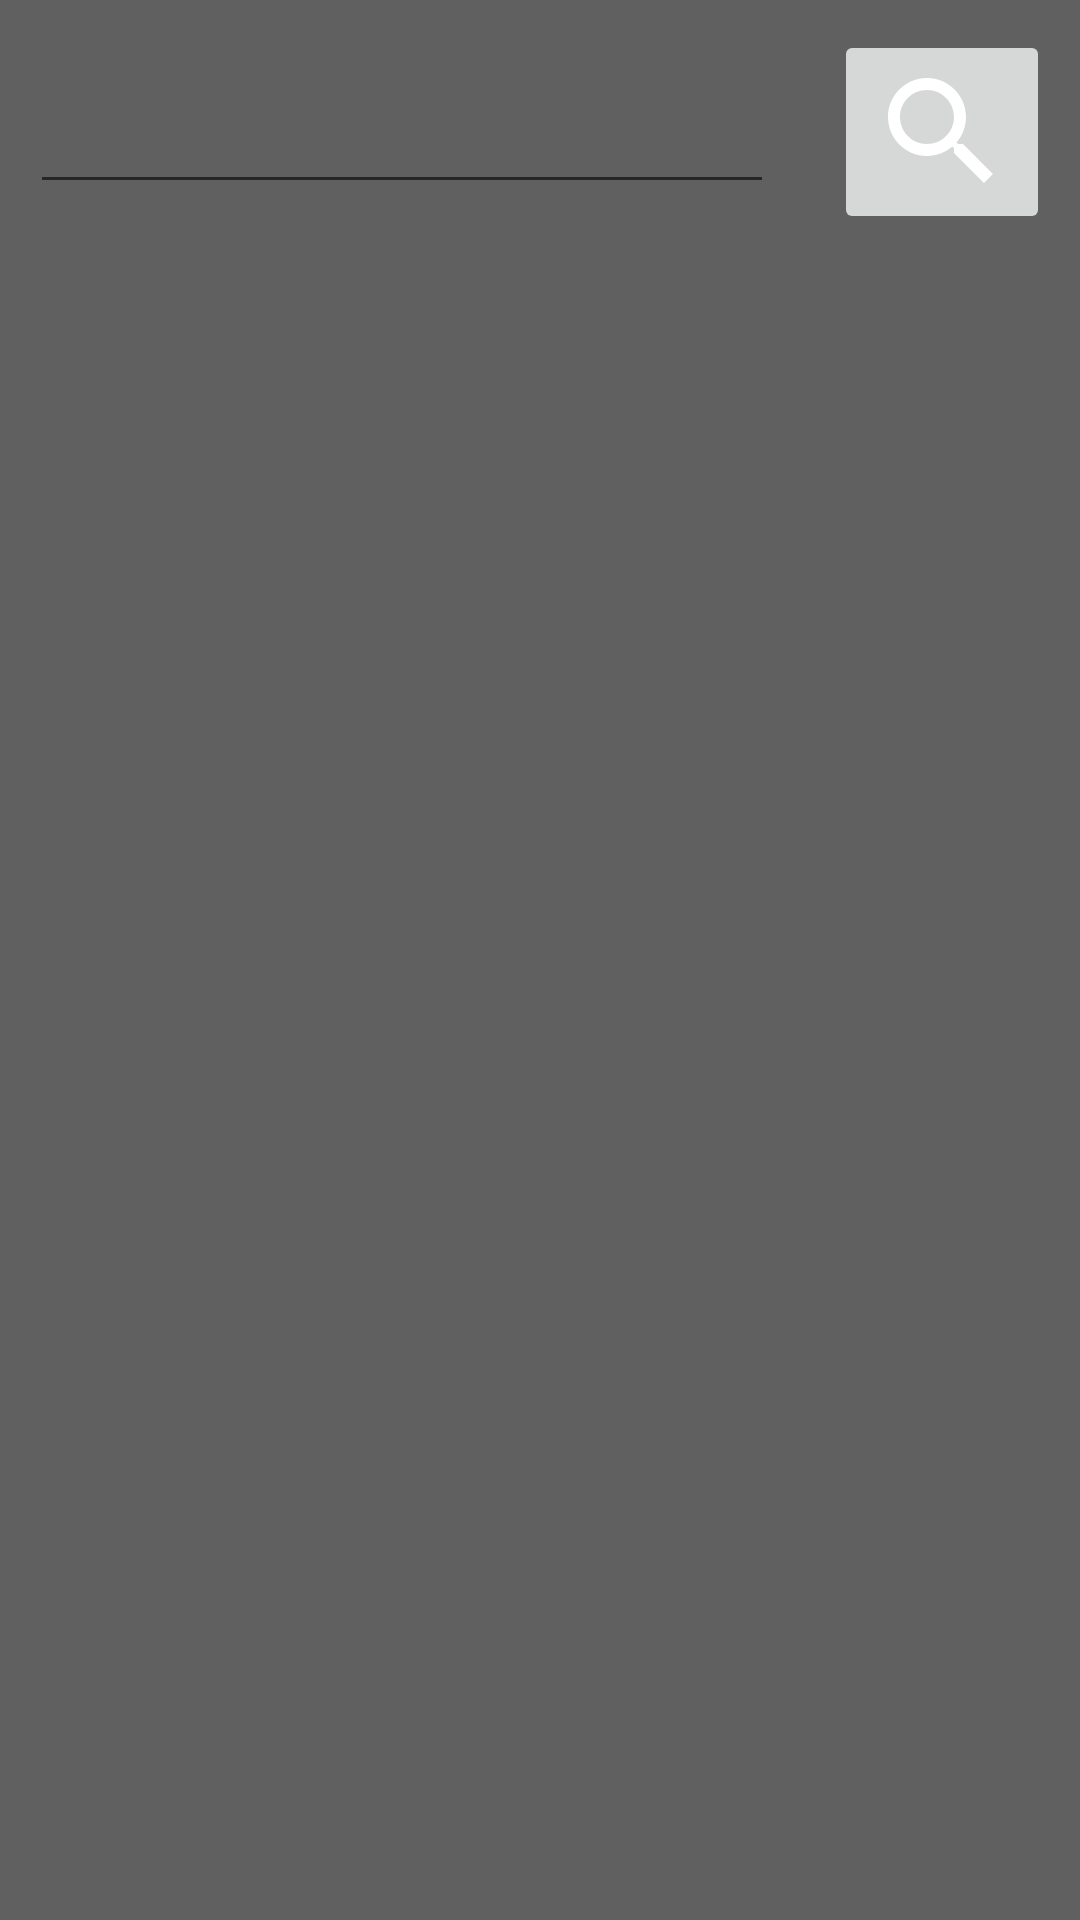

Icons on this 1080 × 1920 Android screen, each with its box as (x1, y1, x2, y2):
search: (846, 48, 1038, 216)
